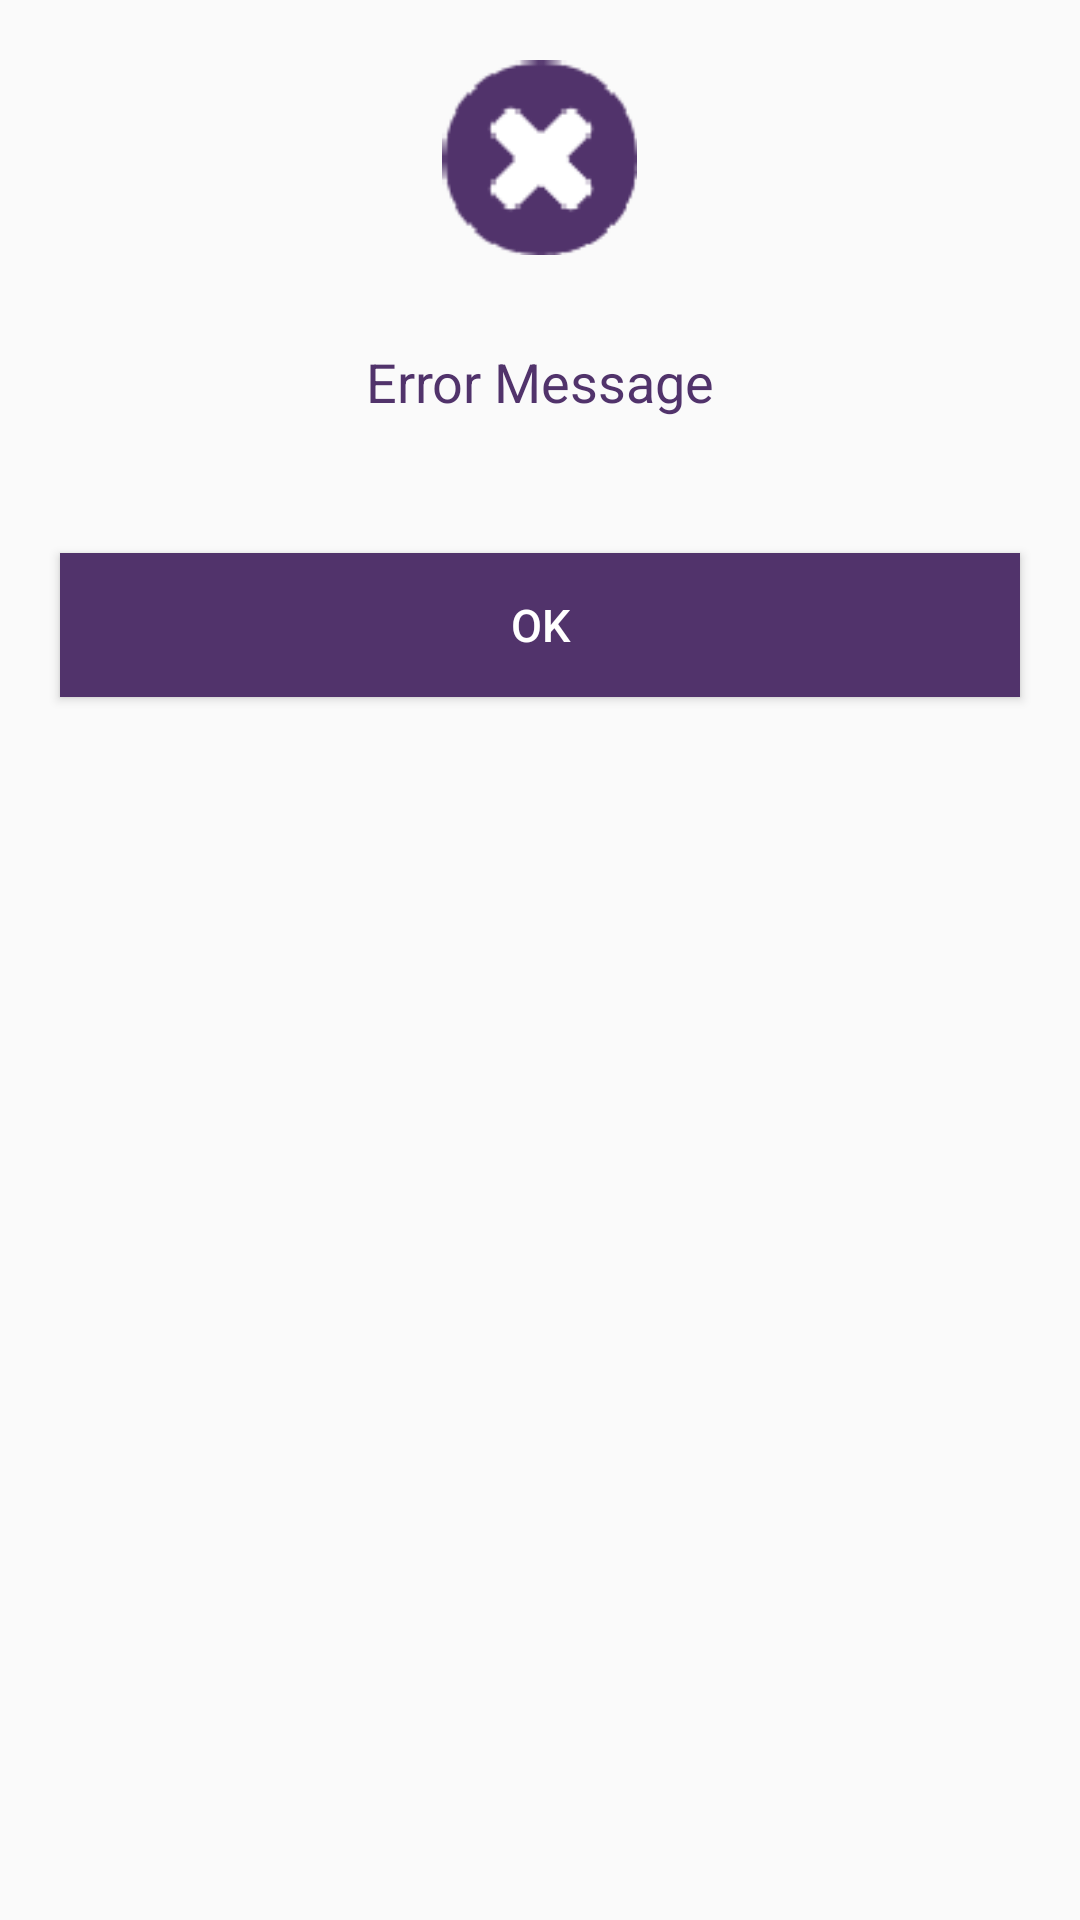

Named icons in this screenshot (1080px×1920px) and their centers, point (x, y):
cross: point (539, 157)
